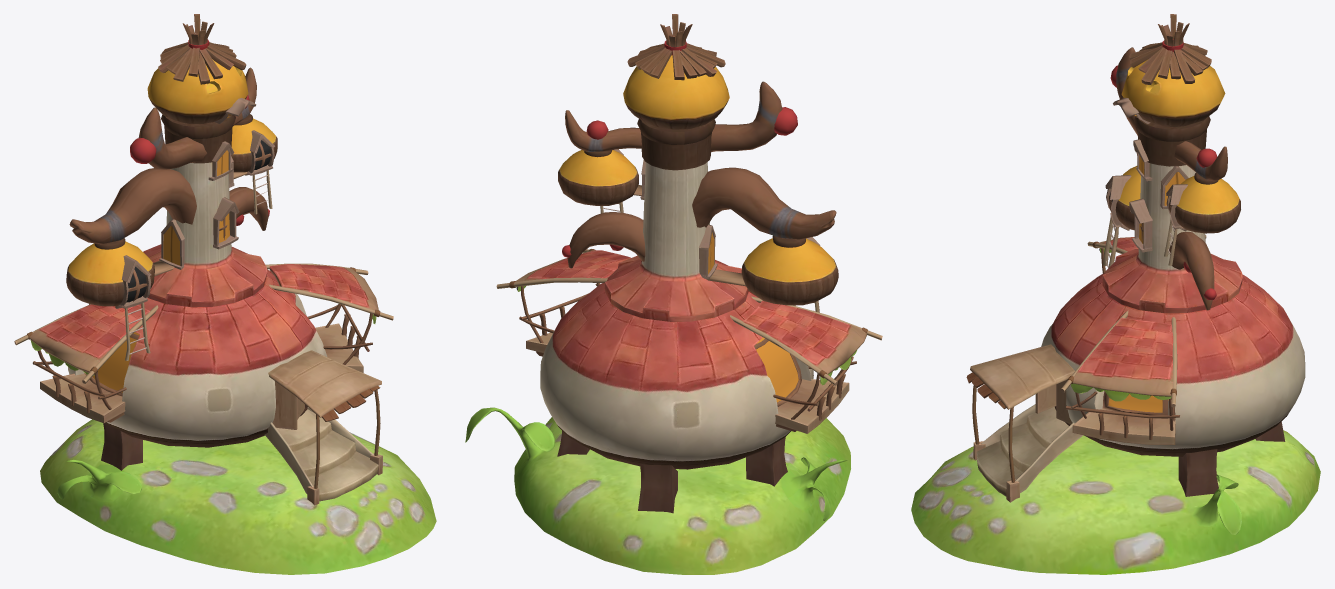
File: tower-transformed.glb
3 views of the same model, side by side, from view 1: azimuth 30°, elevation 25°; view 2: azimuth 150°, elevation 25°; view 3: azimuth 270°, elevation 25° (orthographic). The views are drawn at different scales.
Visible parts, largest first — view 1: node_id144; view 2: node_id144; view 3: node_id144.
Part boxes in pixels (<box>): node_id144: <box>14,14,436,574</box>; node_id144: <box>465,14,882,574</box>; node_id144: <box>911,14,1320,574</box>.
Bounding box in the file's own units: 0.3972 × 0.512 × 0.4037.
1 material, 1 textured.
